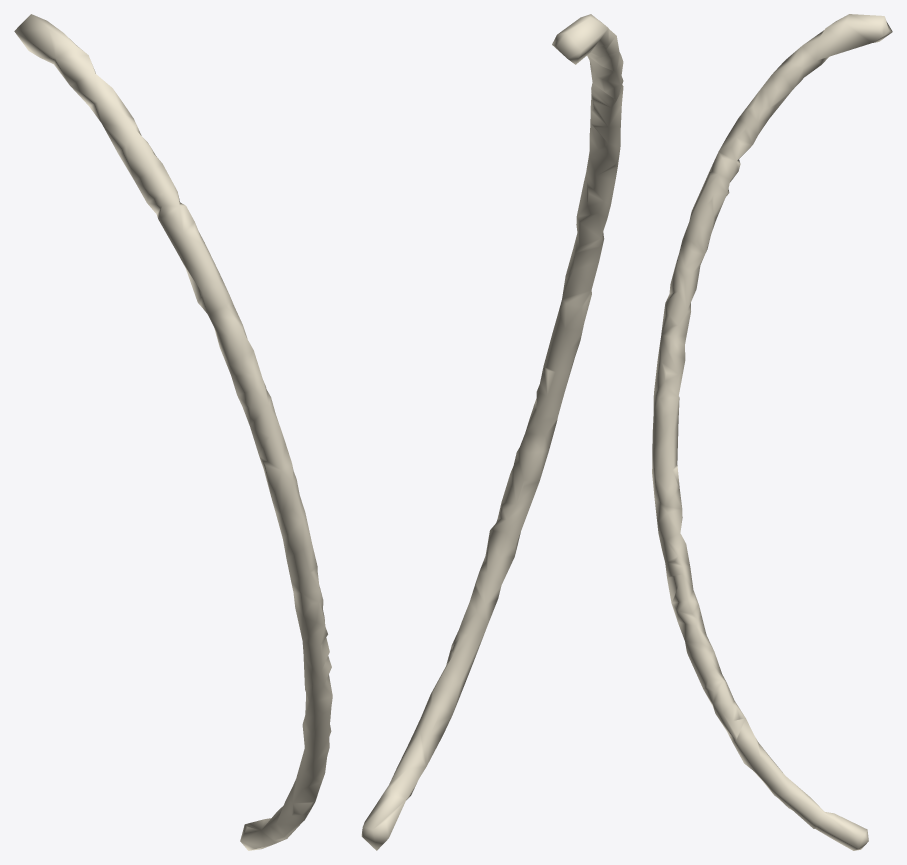
Rendered from rib_6_l.glb.
The picture shows the model from 3 angles, left to right: view 1: azimuth 30°, elevation 25°; view 2: azimuth 150°, elevation 25°; view 3: azimuth 270°, elevation 25°; orthographic projection. The views are drawn at different scales.
Visible parts, largest first — view 1: geometry_0; view 2: geometry_0; view 3: geometry_0.
Part boxes in pixels (<box>): geometry_0: <box>14,14,332,850</box>; geometry_0: <box>361,14,623,850</box>; geometry_0: <box>652,14,892,850</box>.
Size of the model in its own units: 0.3693 by 1.31 by 0.3819.
